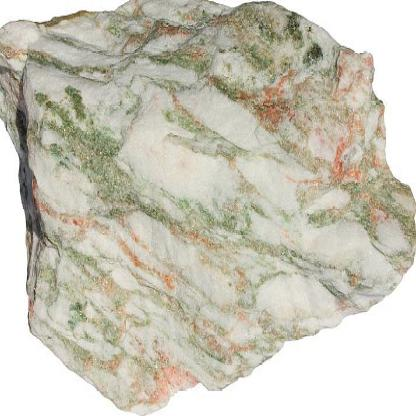Metamorphic_Marble: (0, 0, 413, 414)
